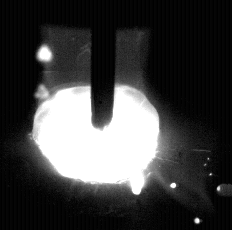arame: (92, 0, 115, 131)
poca: (32, 0, 160, 230)
